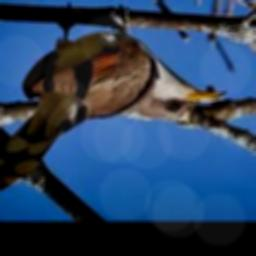Cuckoo: (0, 21, 228, 194)
